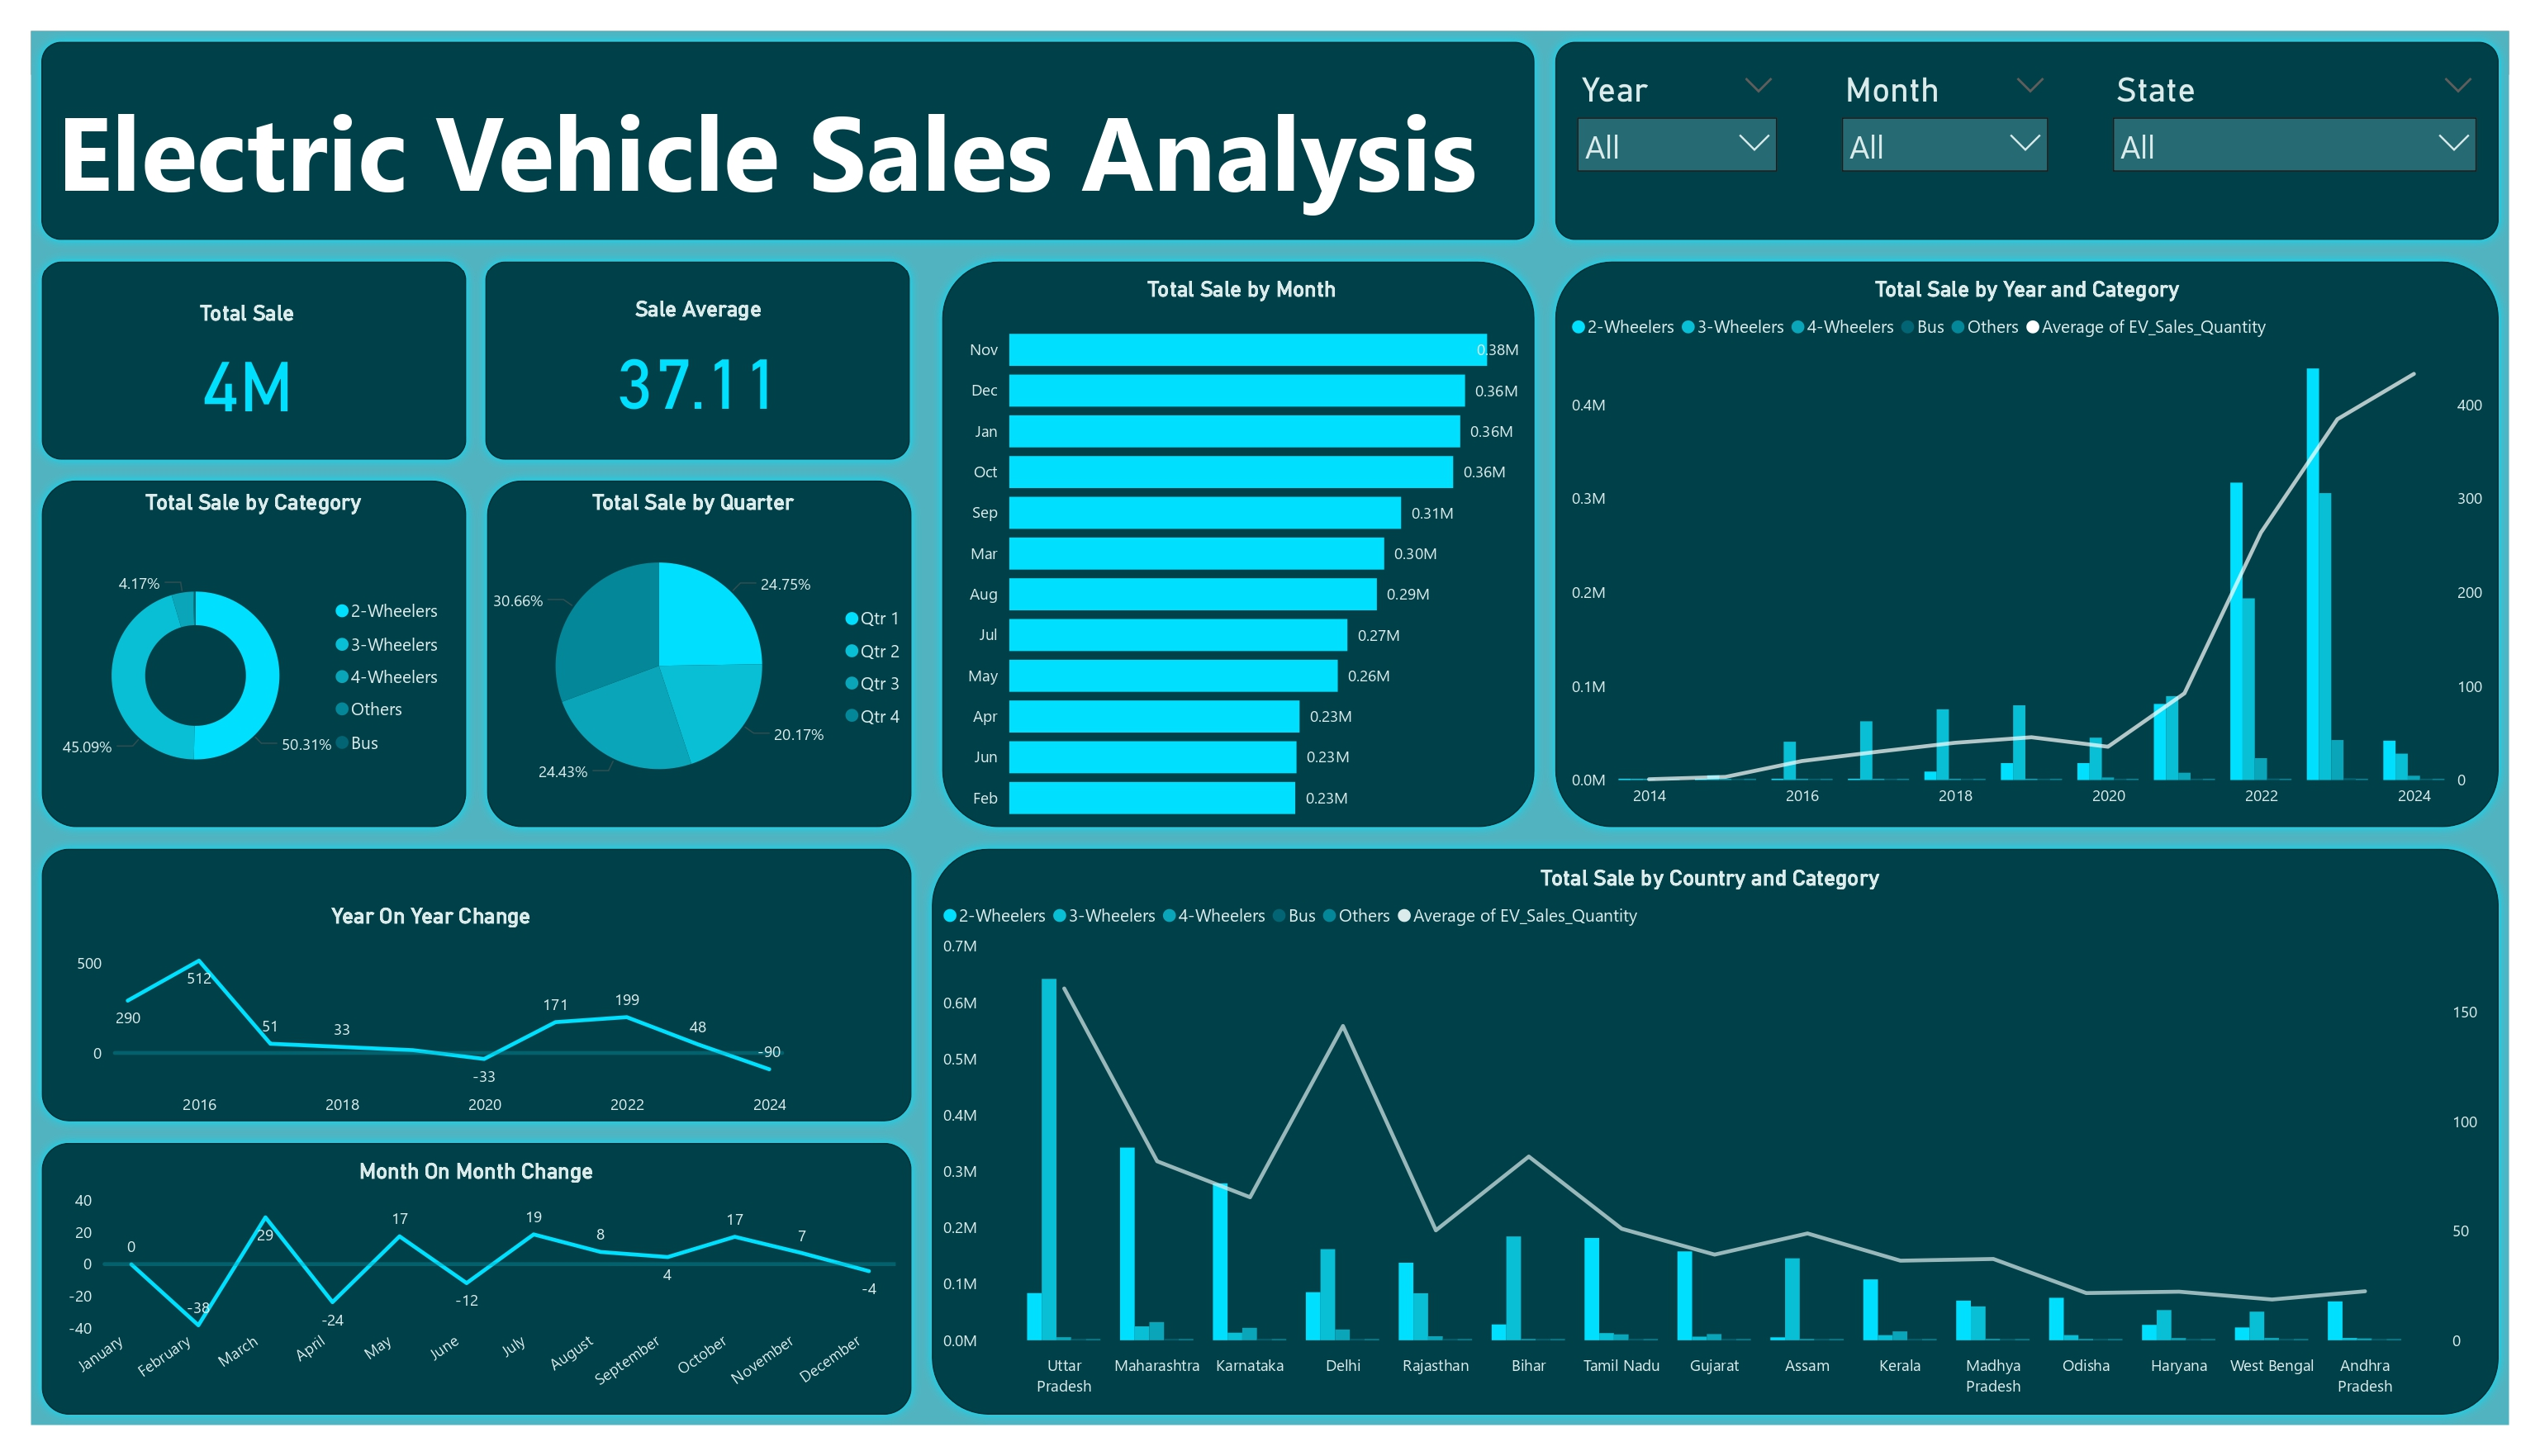

This screenshot's page, from the dashboard's own definition file:
{"tool":"powerbi","page":{"name":"Page 13","canvas":[1920,1080],"ordinal":12},"visuals":[{"type":"shape","title":"xcv cxbgfvb","box":[344.4,169.7,344.4,170.7],"z":0},{"type":"shape","title":"xcv cxbgfvb","box":[0,170,345,170],"z":1000},{"type":"shape","title":"xcv cxbgfvb","box":[690,625,1230,455],"z":2000},{"type":"lineClusteredColumnComboChart","title":"Total Sale by State and Category","fields":{"Y":["Sum(ev.EV_Sales_Quantity)"],"Y2":["Avg(ev.EV_Sales_Quantity)"],"Series":["ev.Vehicle_Category"],"Category":["ev.State"]},"box":[686,626,1230,454],"z":3000},{"type":"shape","title":"xcv cxbgfvb","box":[0,852.5,690,227.5],"z":4000},{"type":"lineChart","title":"Month On Month Change","fields":{"Y":["DAX.MOM"],"Category":["ev.Date.Variation.Date Hierarchy.Month"]},"box":[0,852.5,690,227.5],"z":5000},{"type":"shape","title":"xcv cxbgfvb","box":[1172.5,170,747.5,455],"z":6000},{"type":"lineClusteredColumnComboChart","title":"Total Sale by Year and Category","fields":{"Y":["Sum(ev.EV_Sales_Quantity)"],"Y2":["Avg(ev.EV_Sales_Quantity)"],"Series":["ev.Vehicle_Category"],"Category":["ev.Date.Variation.Date Hierarchy.Year"]},"box":[1172.5,170,747.5,455],"z":7000},{"type":"shape","title":"xcv cxbgfvb","box":[0,625,690,227.5],"z":8000},{"type":"shape","title":"xcv cxbgfvb","box":[345,340,345,285],"z":9000},{"type":"shape","title":"xcv cxbgfvb","box":[0,340,345,285],"z":10000},{"type":"donutChart","title":"Total Sale by Category","fields":{"Category":["ev.Vehicle_Category"],"Y":["Sum(ev.EV_Sales_Quantity)"]},"box":[0,335,345,305],"z":11000},{"type":"pieChart","title":"Total Sale by Quarter","fields":{"Y":["Sum(ev.EV_Sales_Quantity)"],"Category":["ev.Date.Variation.Date Hierarchy.Quarter"]},"box":[322.5,335,380,290],"z":12000},{"type":"shape","title":"xcv cxbgfvb","box":[1172.5,0,747.5,170],"z":13000},{"type":"shape","title":"xcv cxbgfvb","box":[697.5,170,475,455],"z":14000},{"type":"clusteredBarChart","title":"Total Sale by Month","fields":{"Y":["Sum(ev.EV_Sales_Quantity)"],"Category":["ev.Month_Name"]},"box":[702.5,170,470,470],"z":15000},{"type":"lineChart","title":"Year On Year Change","fields":{"Category":["ev.Date.Variation.Date Hierarchy.Year"],"Y":["DAX.YOY"]},"box":[26,644,590,210],"z":16000},{"type":"card","title":"Total Sale ","fields":{"Values":["Sum(ev.EV_Sales_Quantity)"]},"box":[0,187.9,335.4,137.4],"z":17000},{"type":"card","title":"Sale Average","fields":{"Values":["Avg(ev.EV_Sales_Quantity)"]},"box":[349.5,184.8,335.4,140.4],"z":18000},{"type":"shape","title":"xcv cxbgfvb","box":[0,0,1172.5,170],"z":19000},{"type":"textbox","box":[15,32.5,1125,137.5],"z":20000},{"type":"slicer","title":"Year","fields":{"Values":["ev.Date.Variation.Date Hierarchy.Year"]},"box":[1172.5,10,205,132.5],"z":21000},{"type":"slicer","title":"Year","fields":{"Values":["ev.Date.Variation.Date Hierarchy.Month"]},"box":[1377.5,10,210,132.5],"z":22000},{"type":"slicer","title":"Year","fields":{"Values":["ev.State"]},"box":[1587.5,10,332.5,132.5],"z":23000}]}

Visuals, with their boxes on the page's 1920x1080 design canvas (x1, y1, x2, y2). These are canvas units, not pixel positions in the 2540x1456 screenshot, which may show the page scaled, cropped or inside an application window:
"xcv cxbgfvb" shape: l=344, t=170, r=689, b=340
"xcv cxbgfvb" shape: l=0, t=170, r=345, b=340
"xcv cxbgfvb" shape: l=690, t=625, r=1920, b=1080
"Total Sale by State and Category" lineClusteredColumnComboChart: l=686, t=626, r=1916, b=1080
"xcv cxbgfvb" shape: l=0, t=852, r=690, b=1080
"Month On Month Change" lineChart: l=0, t=852, r=690, b=1080
"xcv cxbgfvb" shape: l=1172, t=170, r=1920, b=625
"Total Sale by Year and Category" lineClusteredColumnComboChart: l=1172, t=170, r=1920, b=625
"xcv cxbgfvb" shape: l=0, t=625, r=690, b=852
"xcv cxbgfvb" shape: l=345, t=340, r=690, b=625
"xcv cxbgfvb" shape: l=0, t=340, r=345, b=625
"Total Sale by Category" donutChart: l=0, t=335, r=345, b=640
"Total Sale by Quarter" pieChart: l=322, t=335, r=702, b=625
"xcv cxbgfvb" shape: l=1172, t=0, r=1920, b=170
"xcv cxbgfvb" shape: l=698, t=170, r=1172, b=625
"Total Sale by Month" clusteredBarChart: l=702, t=170, r=1172, b=640
"Year On Year Change" lineChart: l=26, t=644, r=616, b=854
"Total Sale " card: l=0, t=188, r=335, b=325
"Sale Average" card: l=350, t=185, r=685, b=325
"xcv cxbgfvb" shape: l=0, t=0, r=1172, b=170
textbox: l=15, t=32, r=1140, b=170
"Year" slicer: l=1172, t=10, r=1378, b=142
"Year" slicer: l=1378, t=10, r=1588, b=142
"Year" slicer: l=1588, t=10, r=1920, b=142
